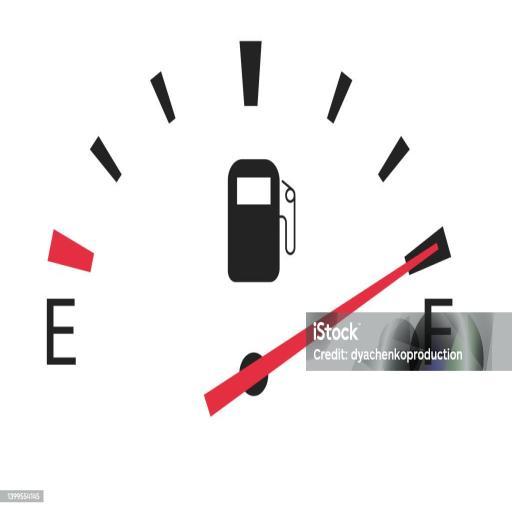empty: (46, 293, 80, 375)
fuel_icon: (222, 158, 300, 287)
full: (424, 296, 455, 363)
guage_area: (37, 20, 463, 424)
needle_center: (238, 350, 272, 399)
needle_tip: (426, 238, 443, 266)
